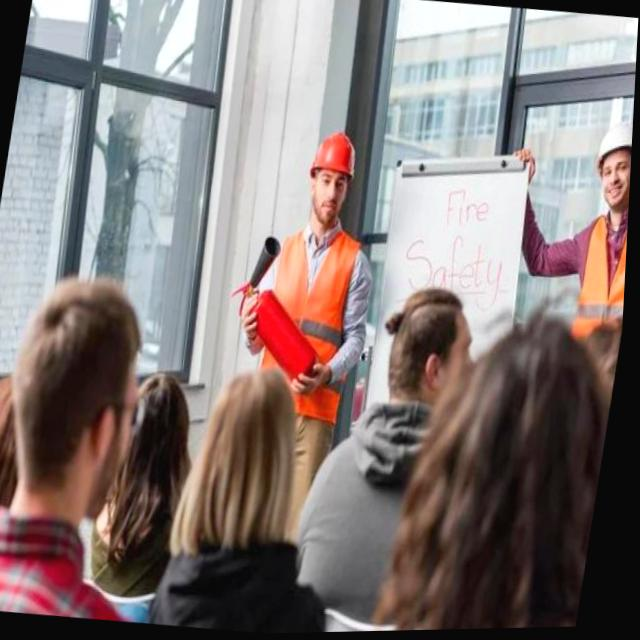FireExtinguisher: (217, 225, 345, 396)
